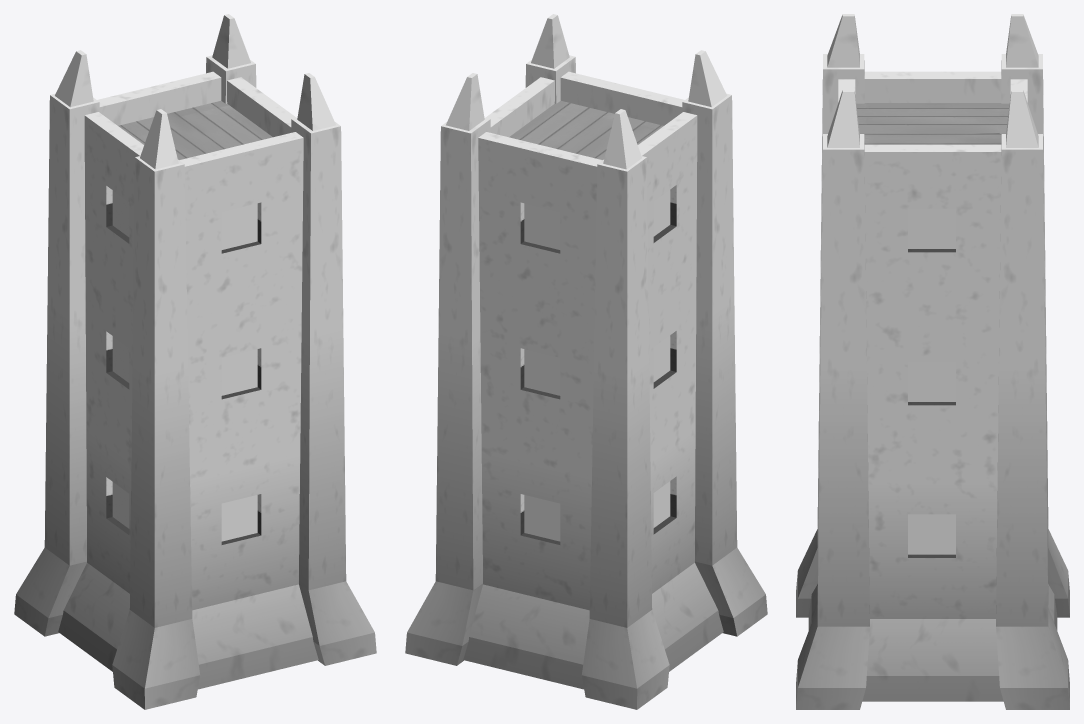
File: DesertHouseD.fbx
3 renders of one model, left to right at view 1: azimuth 30°, elevation 25°; view 2: azimuth 150°, elevation 25°; view 3: azimuth 270°, elevation 25°, orthographic. The views are drawn at different scales.
Visible parts, largest first — view 1: DesertHouseD; view 2: DesertHouseD; view 3: DesertHouseD.
Part boxes in pixels (x1,y1,x2,y2): DesertHouseD: (14,14,376,709); DesertHouseD: (405,14,767,709); DesertHouseD: (796,14,1069,709).
Size of the model in its own units: 1166 by 2737 by 1137.
